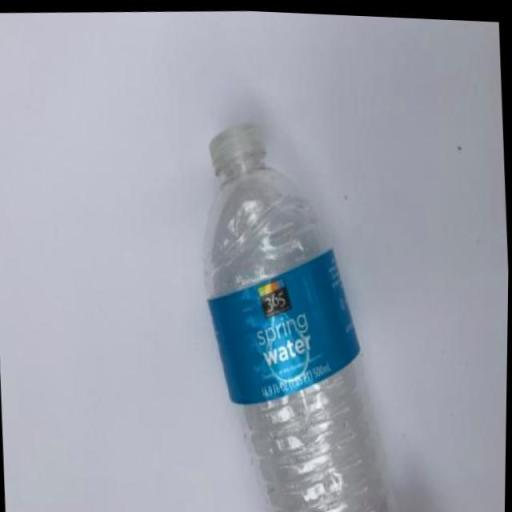plastic: (192, 106, 415, 512)
